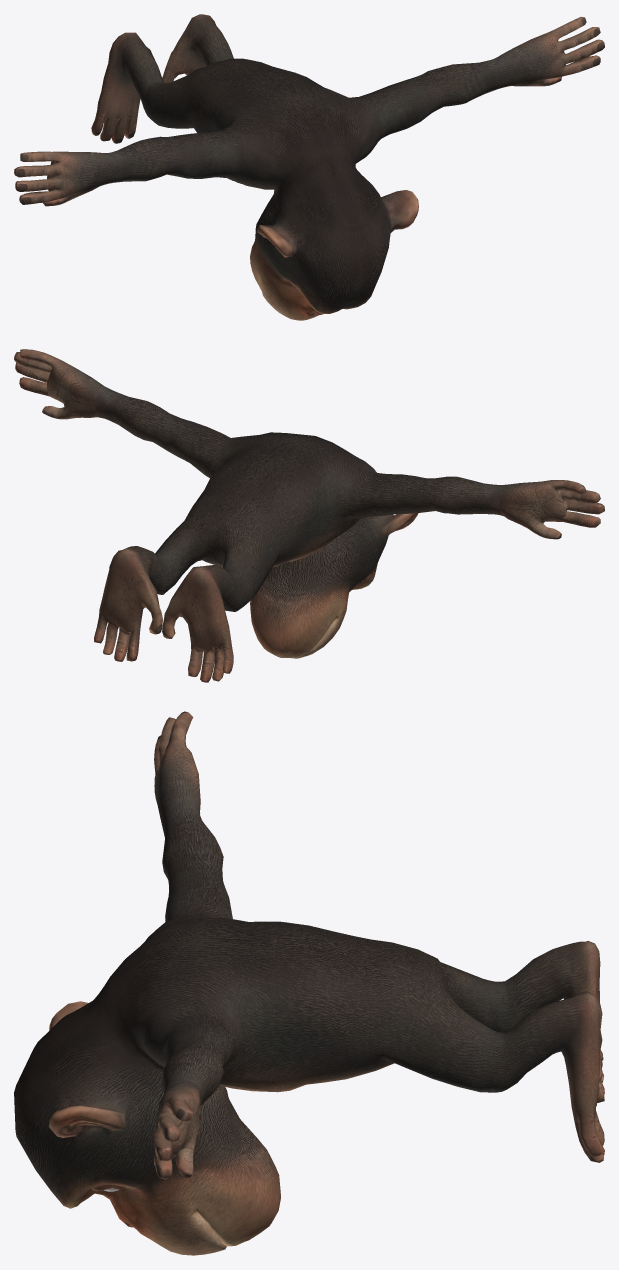
The model's file is Run.gltf.
3 renders of one model, top to bottom at view 1: azimuth 30°, elevation 25°; view 2: azimuth 150°, elevation 25°; view 3: azimuth 270°, elevation 25°, orthographic. The views are drawn at different scales.
Parts seen in each view (by area): view 1: Chimp_Body; view 2: Chimp_Body; view 3: Chimp_Body.
Boxes of the visible parts, x1,y1,x2,y2 form: Chimp_Body: (14, 14, 604, 320); Chimp_Body: (14, 349, 604, 682); Chimp_Body: (14, 711, 604, 1255).
Bounding box in the file's own units: 176 × 66.74 × 105.
Materials: 5 (3 with a texture image).
